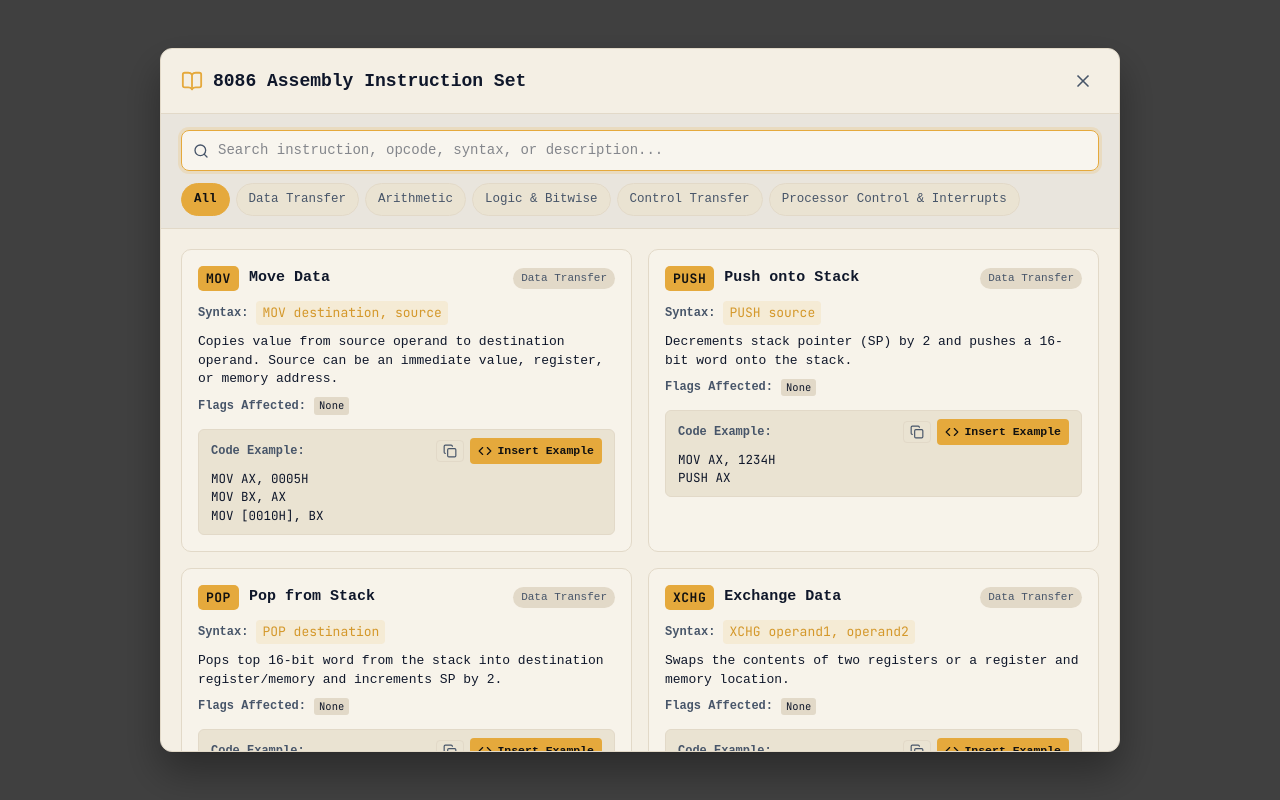
Test: InstructionSetModal Component › filters instructions by category tab
Click the button "Arithmetic". click: (416, 199)
box: [365, 183, 466, 216]
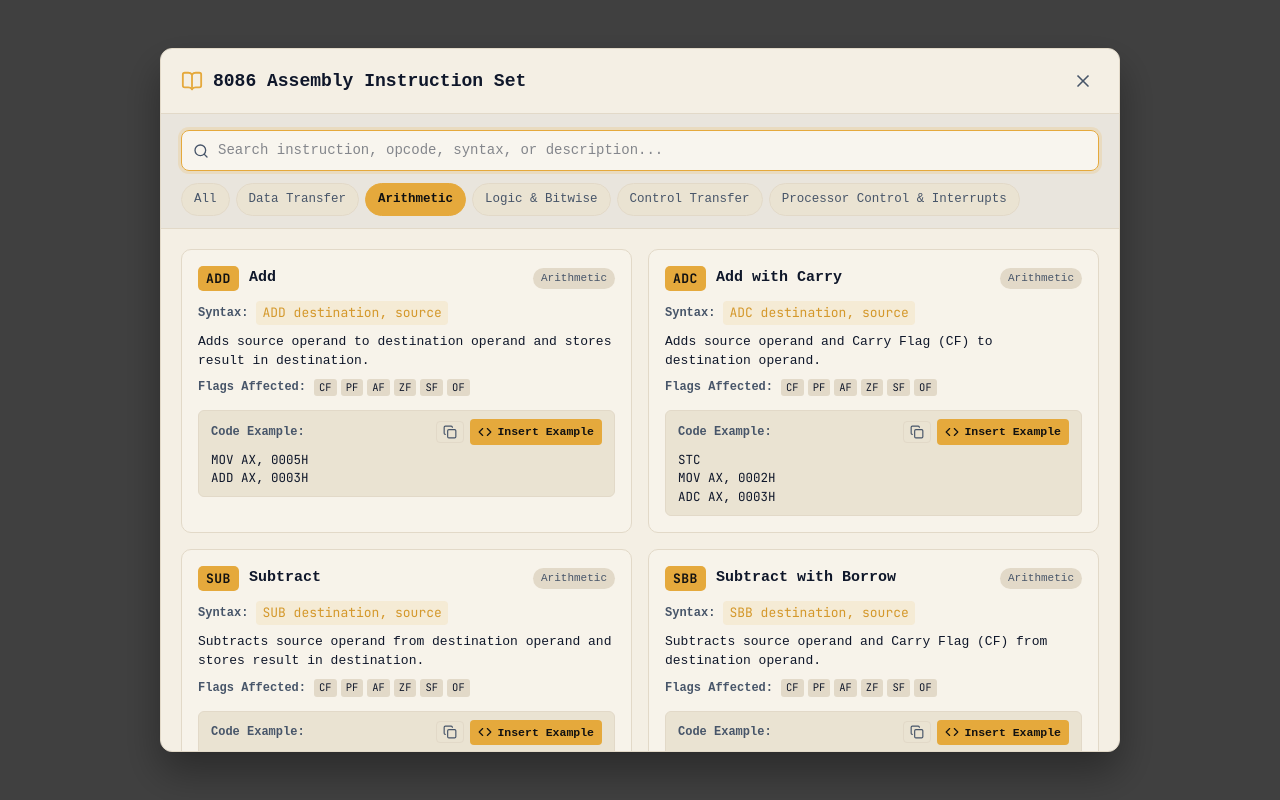
expect the text "ADD" is shown: met, box [198, 266, 239, 291]
